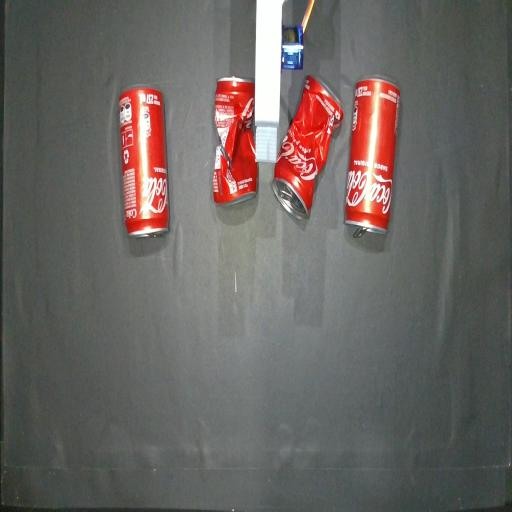lata: (345, 76, 400, 237), (119, 86, 169, 237)
lata_defectuoso: (272, 75, 343, 219), (213, 77, 258, 205)
